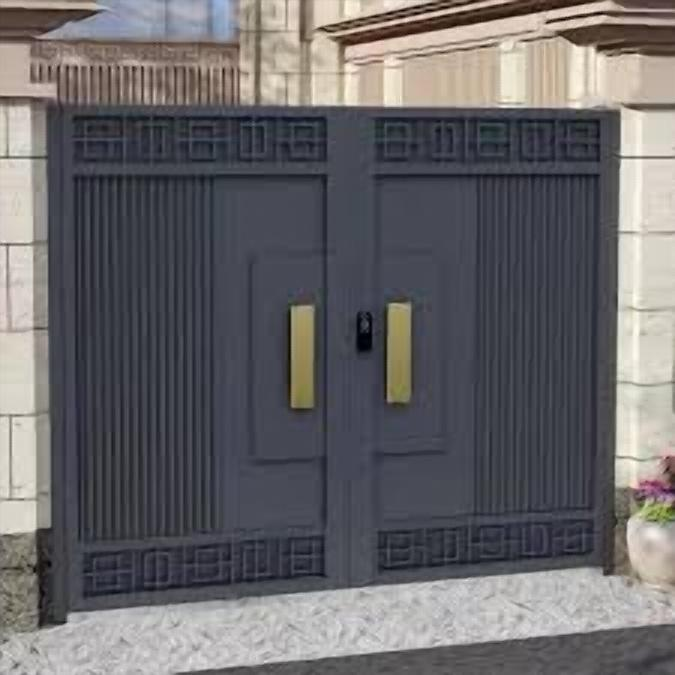Gate: (45, 101, 623, 613)
